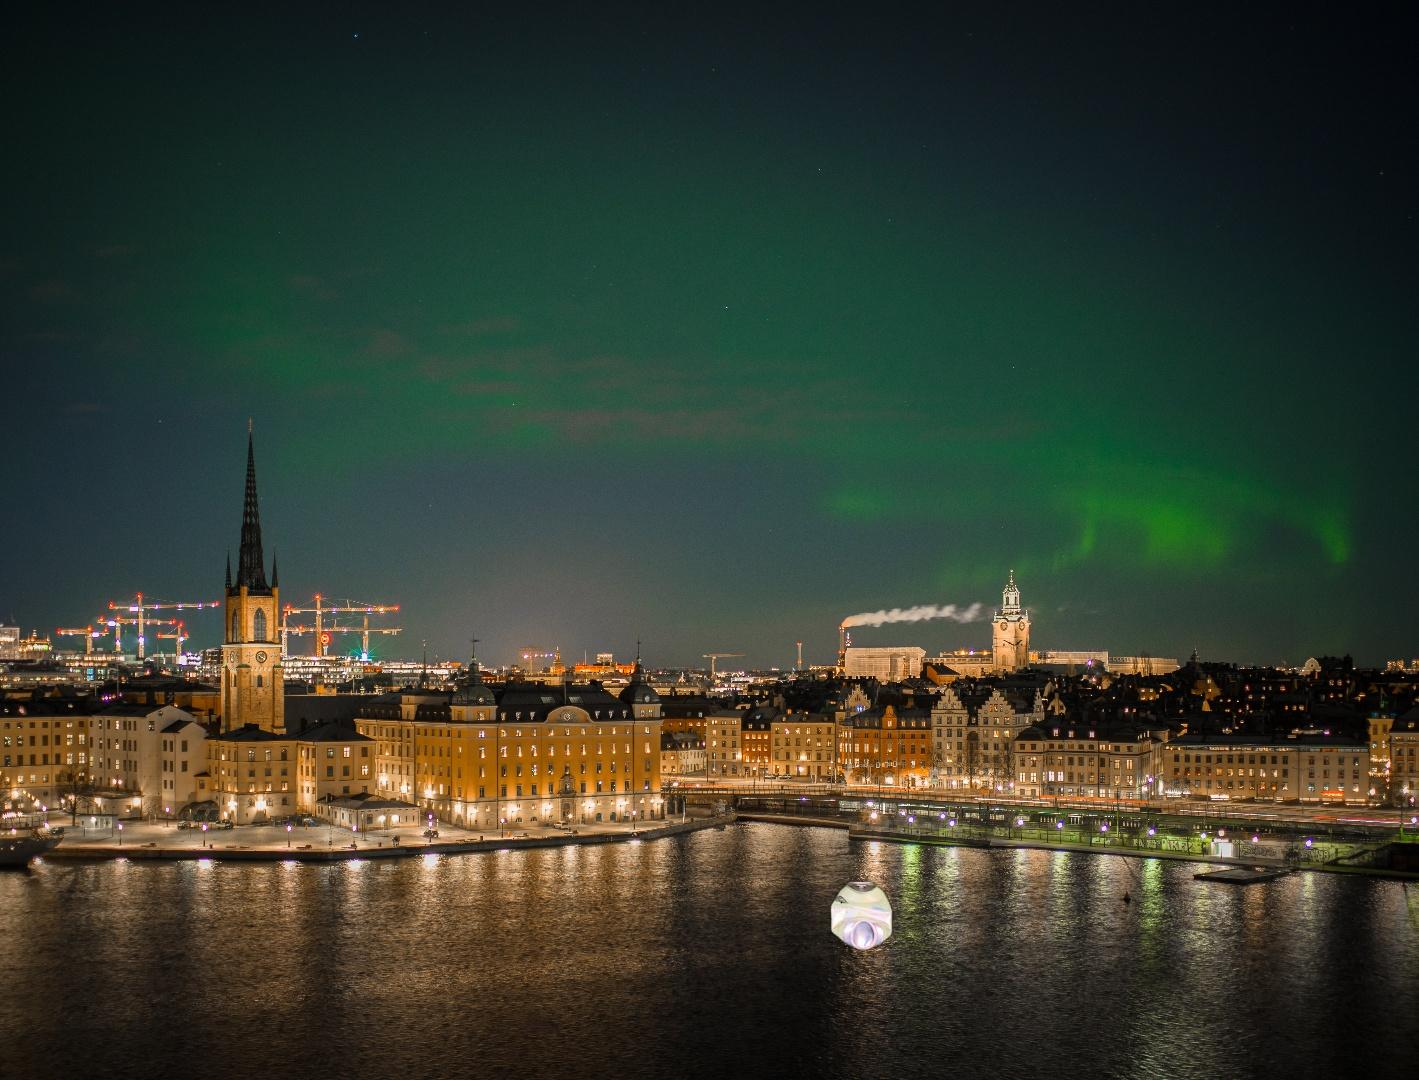metal-cans: (523, 352, 898, 1035)
